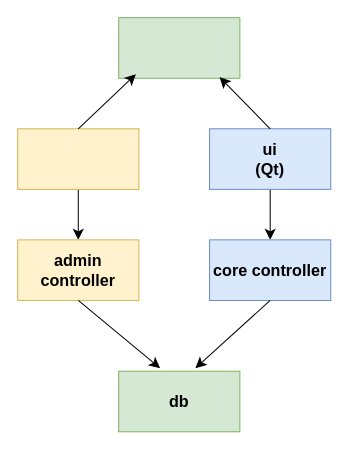
This 348x449 diagram has some shape labels left out. Each missing label, with the box of its shape:
admin (Flask): (17, 128, 139, 189)
common (DTO, logging): (118, 17, 240, 78)
